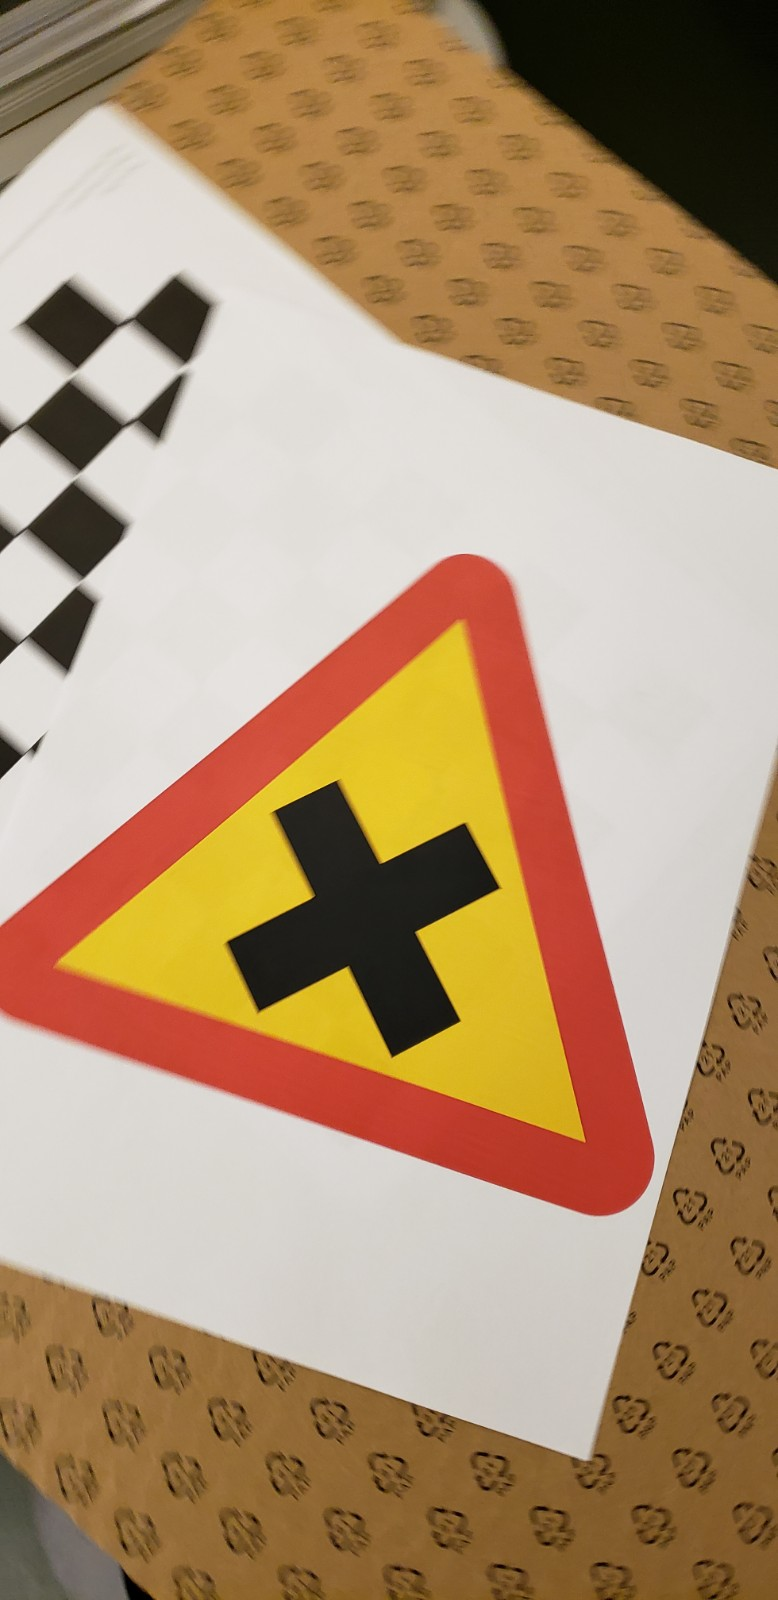junction: (1, 496, 681, 1263)
